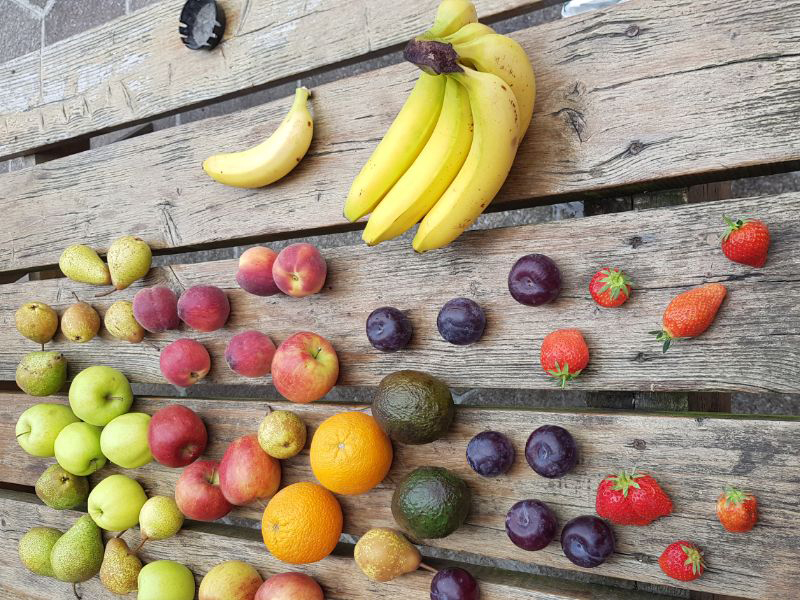banana: (340, 4, 539, 254), (182, 76, 320, 185)
strawberry: (656, 274, 730, 349), (592, 468, 680, 521), (537, 322, 597, 384), (583, 260, 644, 314), (722, 214, 774, 268), (657, 534, 713, 583), (719, 488, 759, 535)
